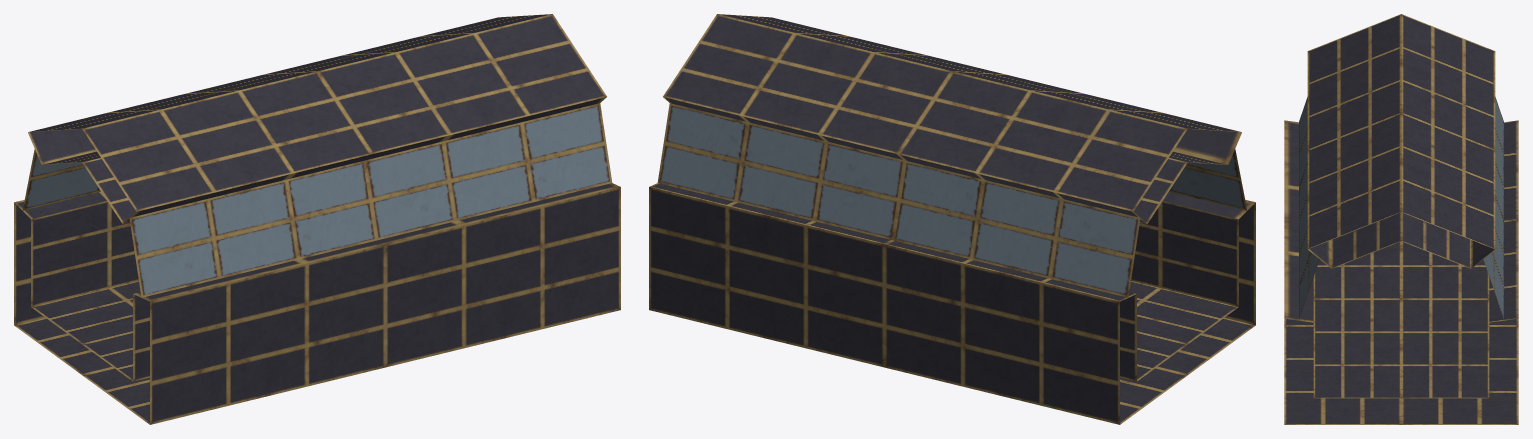
Rendered from Hall.fbx.
The picture shows the model from 3 angles, left to right: view 1: azimuth 30°, elevation 25°; view 2: azimuth 150°, elevation 25°; view 3: azimuth 270°, elevation 25°; orthographic projection. The views are drawn at different scales.
Visible parts, largest first — view 1: HallwayWindowed; view 2: HallwayWindowed; view 3: HallwayWindowed.
Boxes of the visible parts, box(x1,y1,x2,y2) form: HallwayWindowed: box(14, 14, 620, 424); HallwayWindowed: box(649, 14, 1255, 424); HallwayWindowed: box(1284, 14, 1518, 424).
Bounding box in the file's own units: 800 × 400 × 400.
